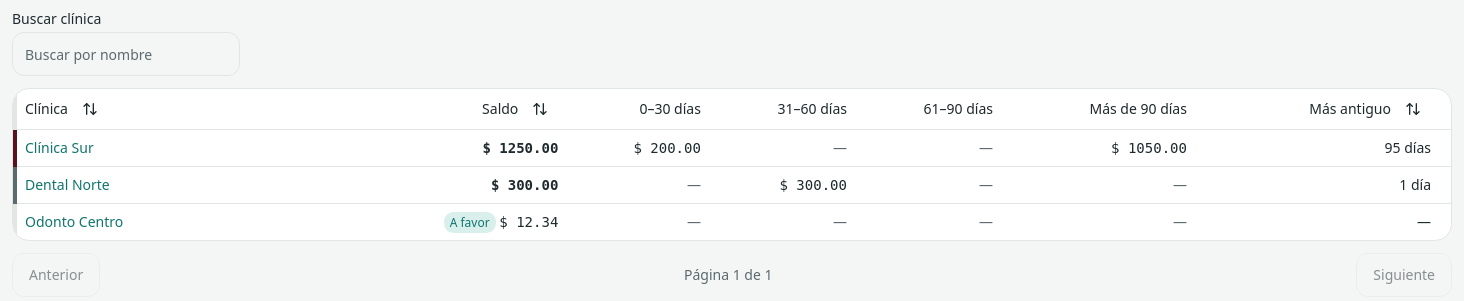
Scenario: AccountsTable — escritorio › sin coincidencias, lo dice con la búsqueda
Type "xyz" into the search field labelled "Buscar clínica" at (126, 54), box [12,32,240,76]
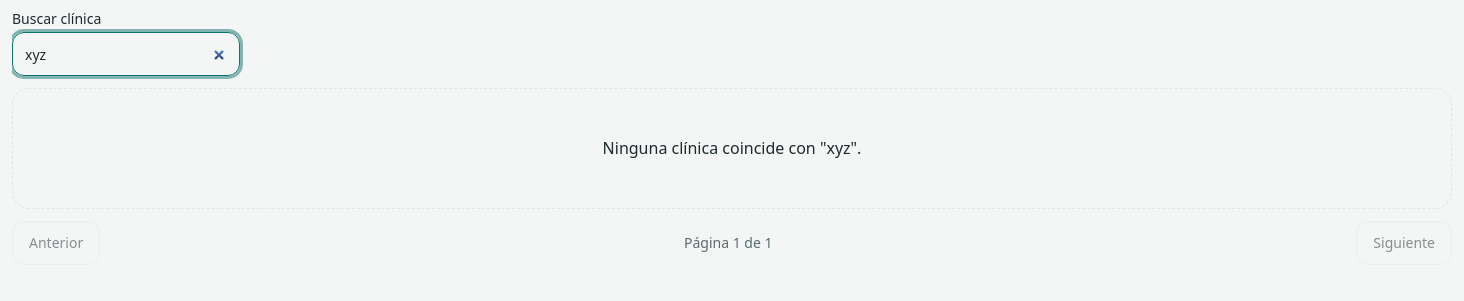
Now the text "Ninguna clínica coincide con \"xyz\"." is shown, box [603,137,861,160]
